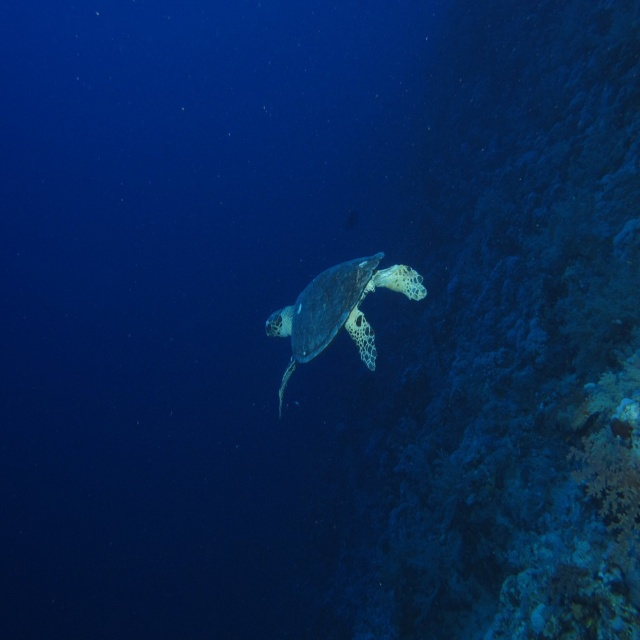Sea turtle: (262, 249, 428, 423)
